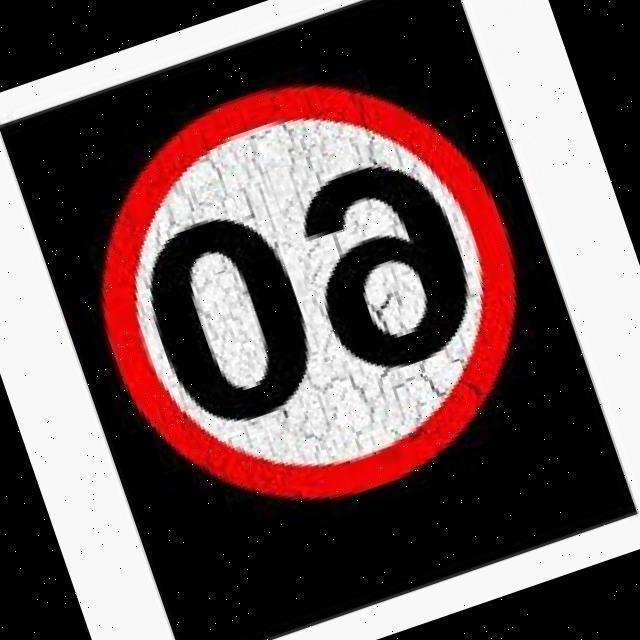speed_limit_60: (47, 31, 568, 550)
